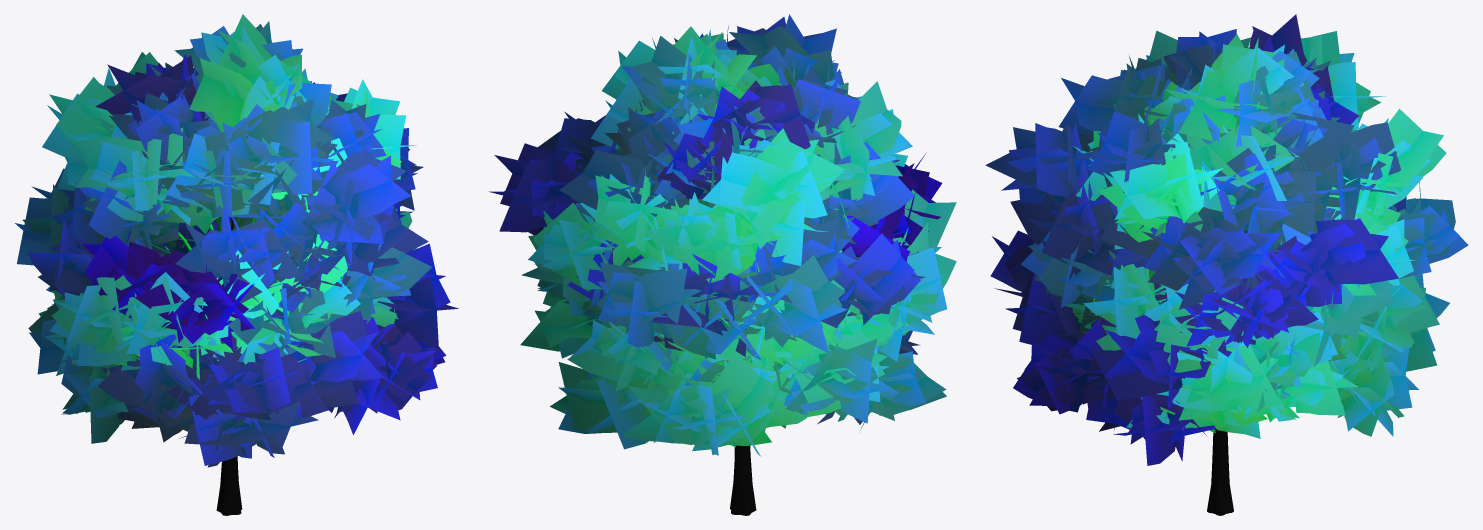
File: cP_Tree05.fbx
The picture shows the model from 3 angles, left to right: view 1: azimuth 30°, elevation 25°; view 2: azimuth 150°, elevation 25°; view 3: azimuth 270°, elevation 25°; orthographic projection. The views are drawn at different scales.
Parts seen in each view (by area): view 1: cP_Tree05_LOD0; view 2: cP_Tree05_LOD0; view 3: cP_Tree05_LOD0.
Part boxes in pixels (<box>): cP_Tree05_LOD0: <box>15,14,458,515</box>; cP_Tree05_LOD0: <box>489,14,956,515</box>; cP_Tree05_LOD0: <box>985,14,1468,515</box>.
Size of what is drawn, in the model's own units: 305 by 364 by 326.
